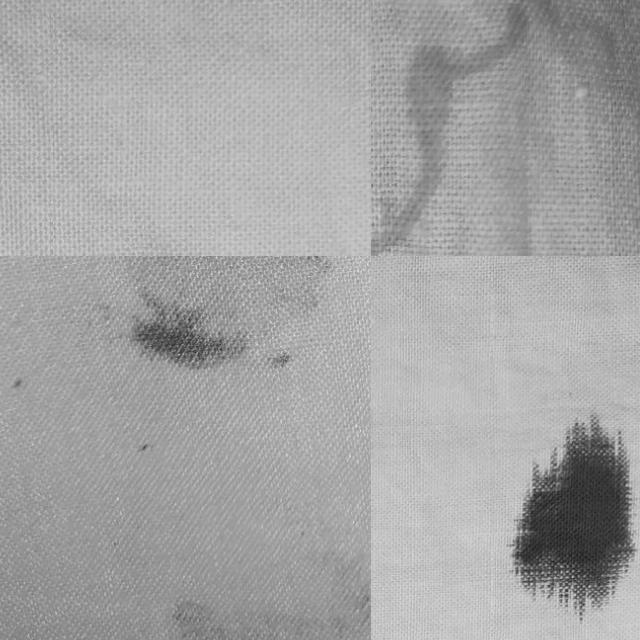Hole: (86, 256, 354, 404), (503, 374, 640, 636), (152, 560, 371, 640), (116, 429, 198, 488), (0, 336, 46, 428)
